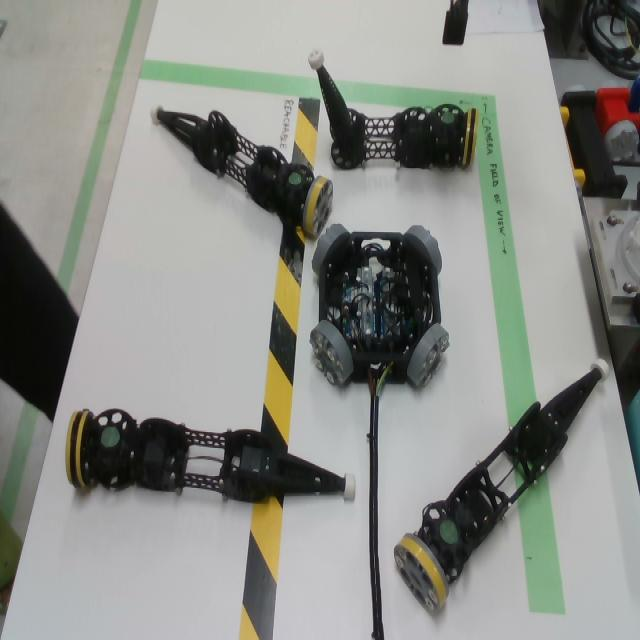body: (319, 231, 442, 385)
body_connector: (309, 320, 354, 388), (407, 324, 450, 388), (404, 225, 443, 275), (312, 224, 349, 276)
leg: (393, 357, 609, 612), (66, 408, 357, 504), (149, 103, 334, 239), (308, 48, 481, 173)
leg_connector: (393, 533, 449, 612), (66, 409, 94, 488), (302, 176, 333, 239), (461, 108, 478, 173)
leg_marker: (440, 520, 458, 544), (101, 427, 120, 448), (441, 112, 455, 124), (289, 173, 302, 185)
